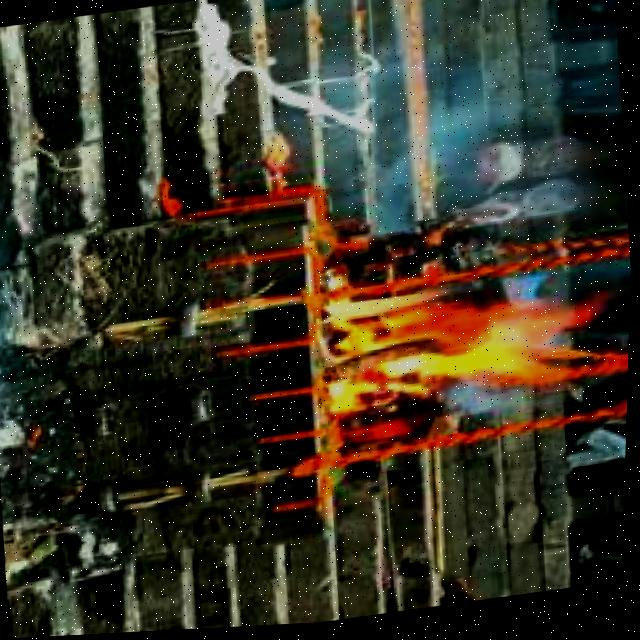Fire: (316, 262, 606, 426)
